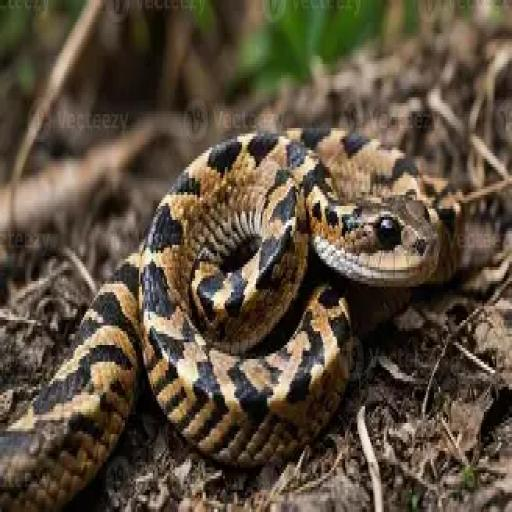snake: (0, 128, 462, 511)
